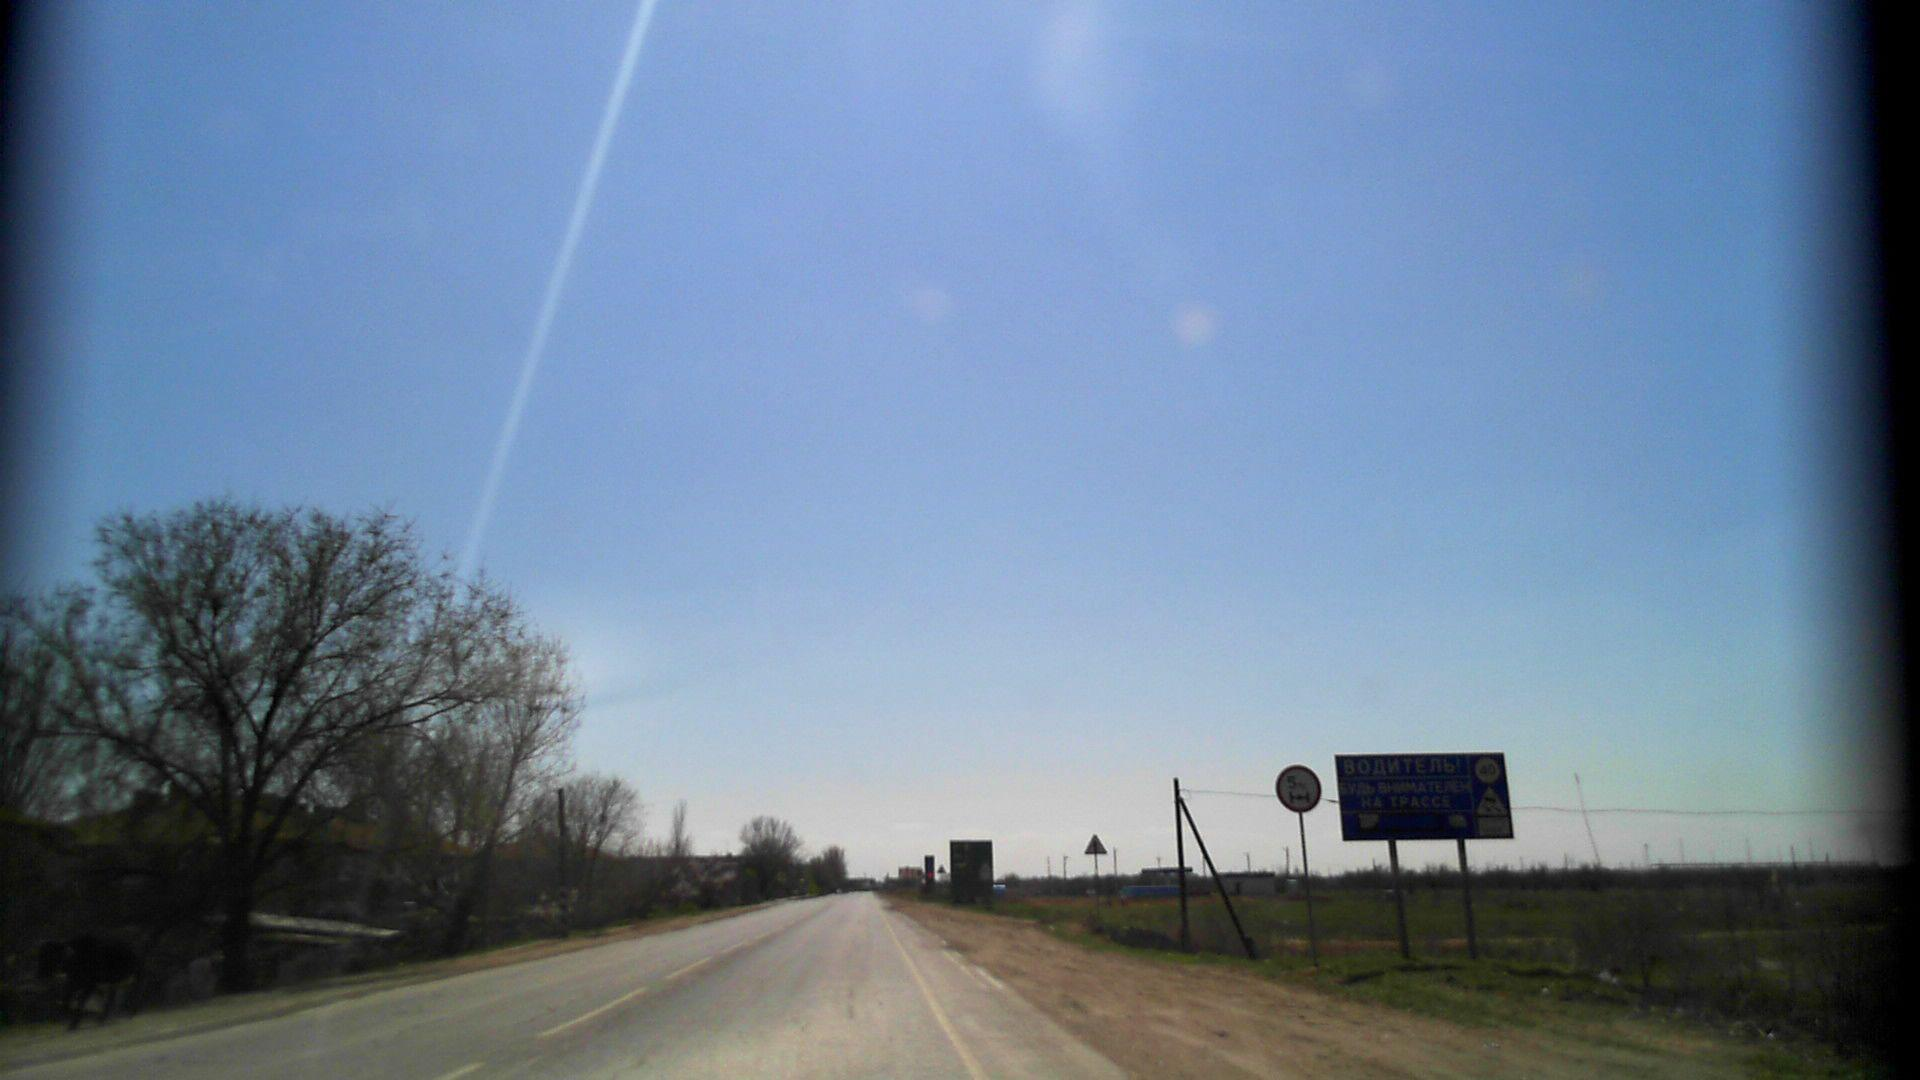3_12: (1274, 762, 1324, 815)
